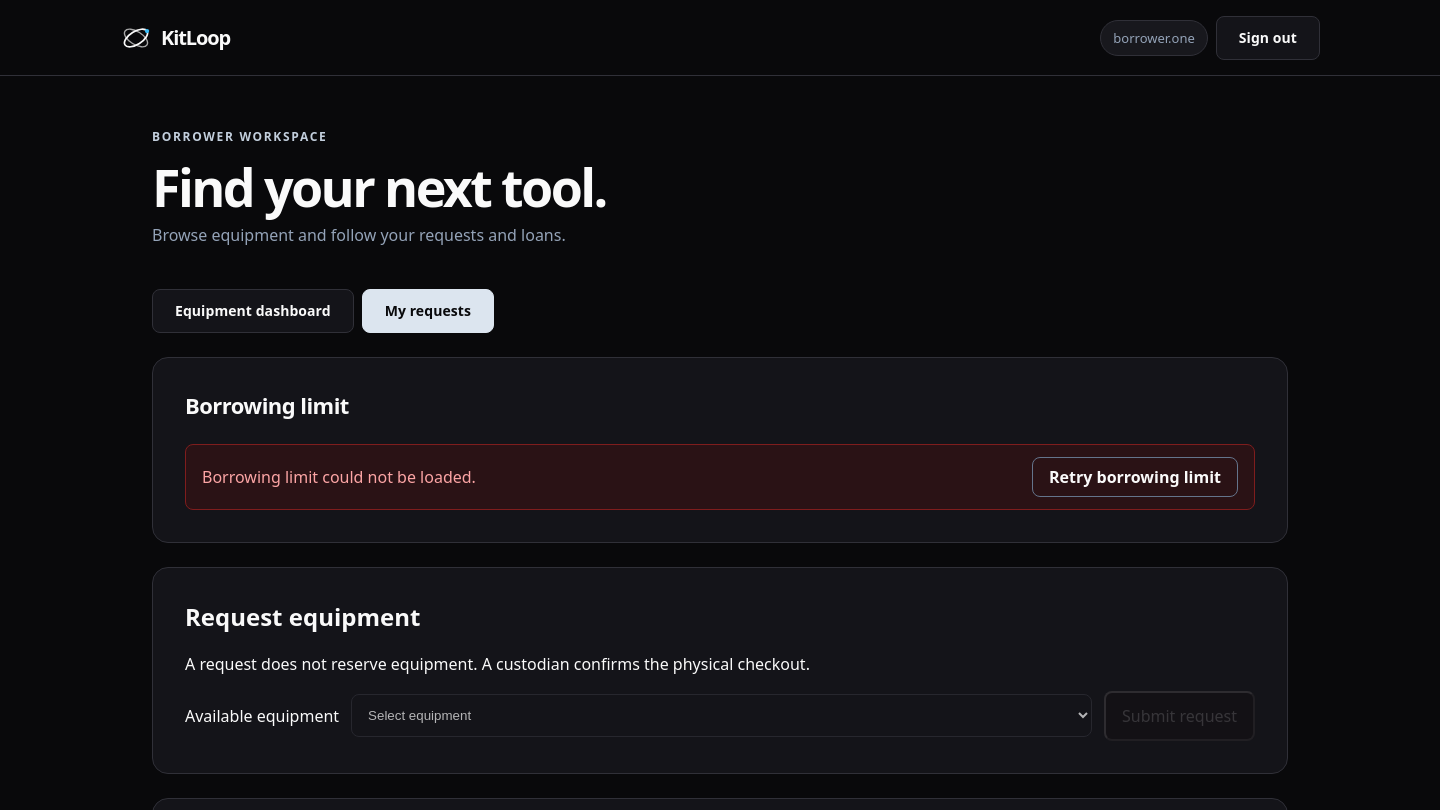
CR-01 pending-request quota UI (AC11 / TC11) › Q05 AC11-S5: a failed quota read shows an alert with Retry; Retry recovers the panel
This screenshot has width=1440, height=810.
Check: the text "Borrowing limit could not be loaded." is shown, box [202,466,476,488]
Check: the button "Submit request" is disabled, box [1104,691,1255,741]
Click the button "Retry borrowing limit" at (1135, 477), box [1032,457,1238,497]
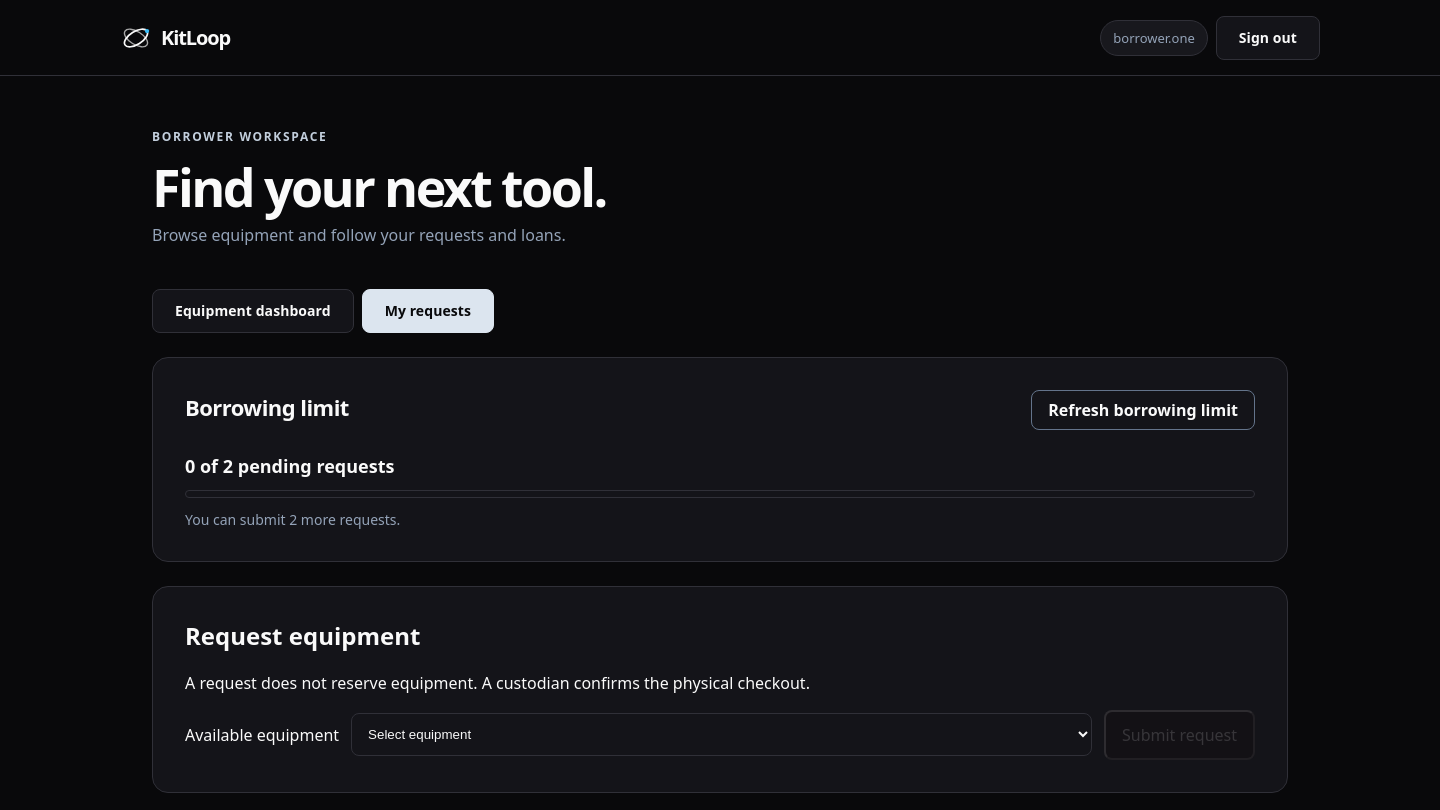
Check: the text "0 of 2 pending requests" is shown, box [185,454,394,478]
Check: the dropdown labelled "Available equipment" is enabled
Select "Camera · CAM-01" in the dropdown labelled "Available equipment" at (722, 735), box [351,713,1092,756]
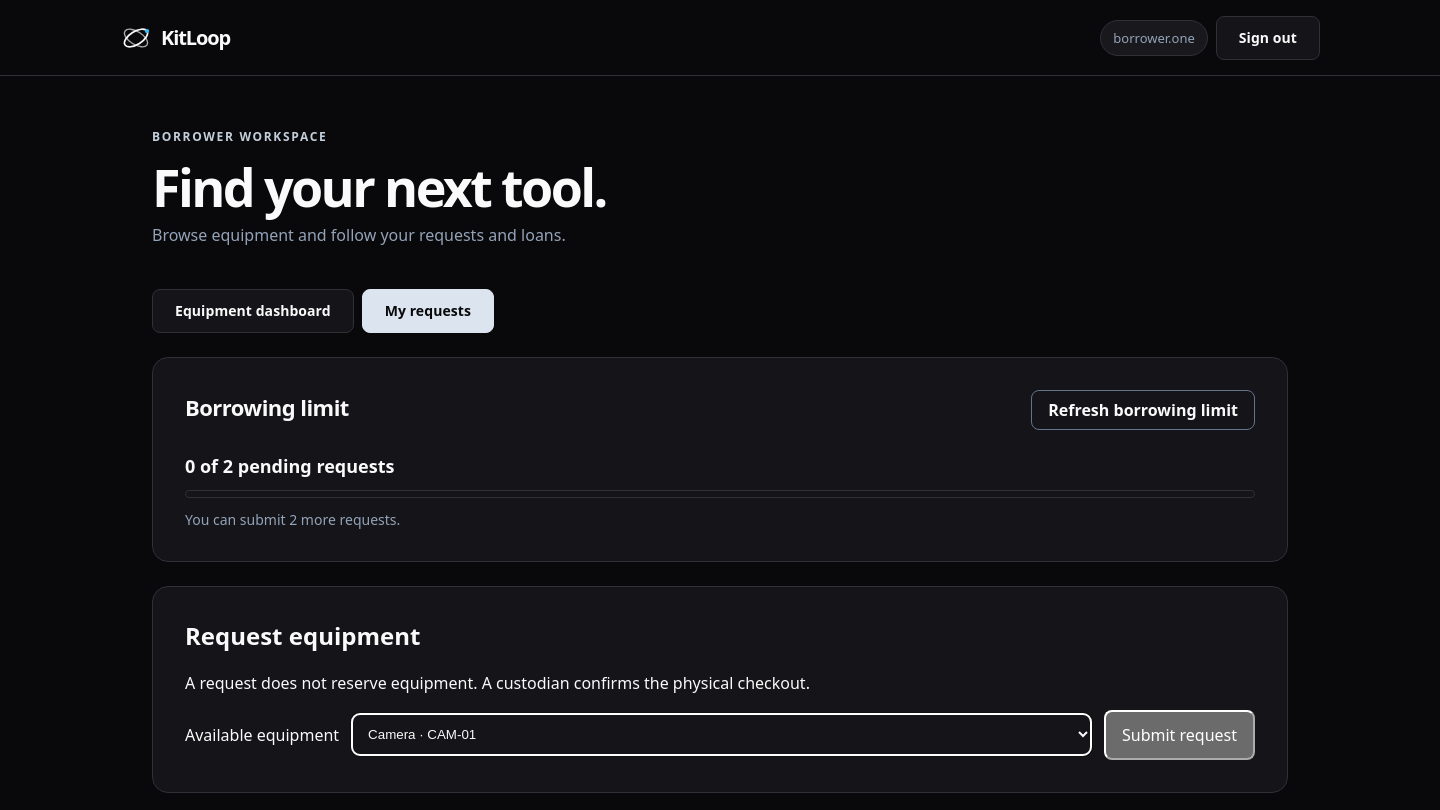
Check: the button "Submit request" is enabled, box [1104,710,1255,760]
